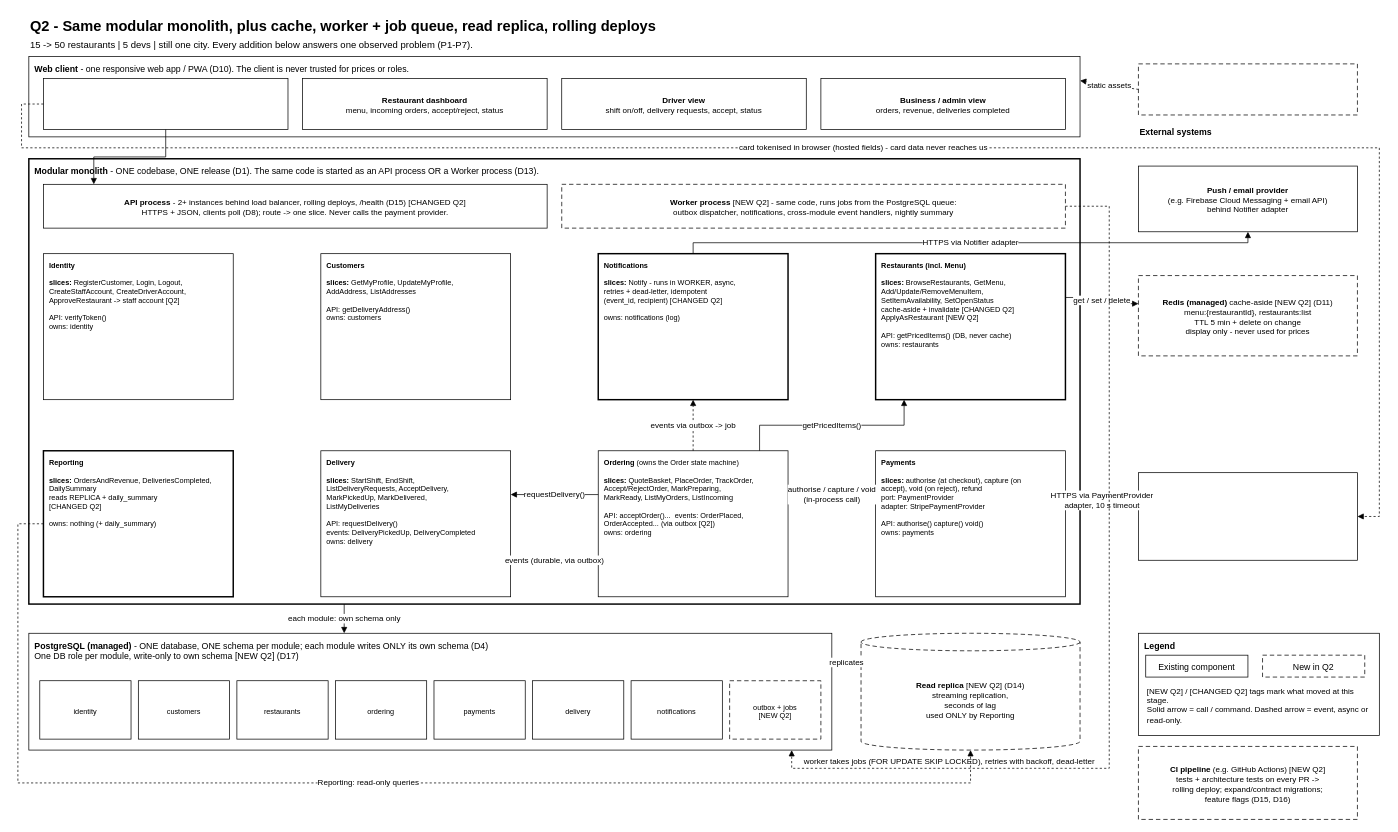
This 1398x832 diagram has some shape labels left out. The centre of each missing label's shape, as x and y in pixels:
"CDN for static files (JS/CSS/images) [NEW Q2]" belongs at (1247,89).
"Customer view browse, basket, place order, track, history" belongs at (165,104).
"Payment provider (e.g. Stripe) hosted card fields, manual capture" belongs at (1247,516).
